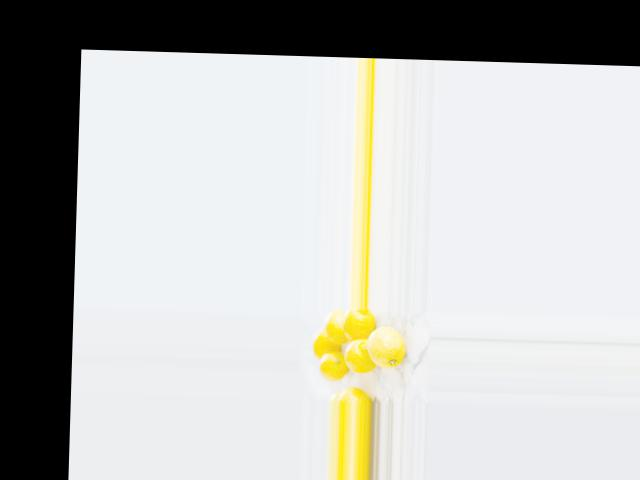lemon: (364, 321, 406, 375)
